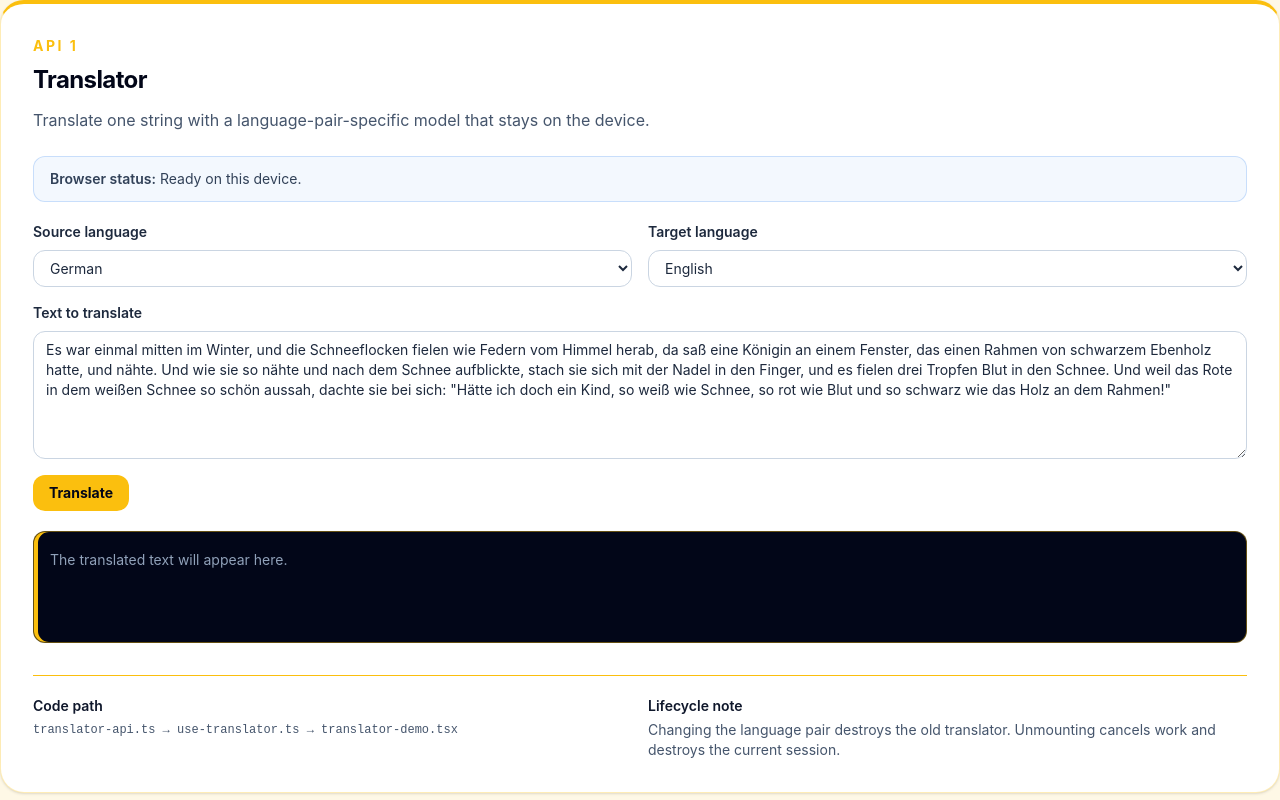
Test: Translator demo › is operable through its accessible form controls
Click the button "Translate": (81, 493) [33, 475, 129, 511]
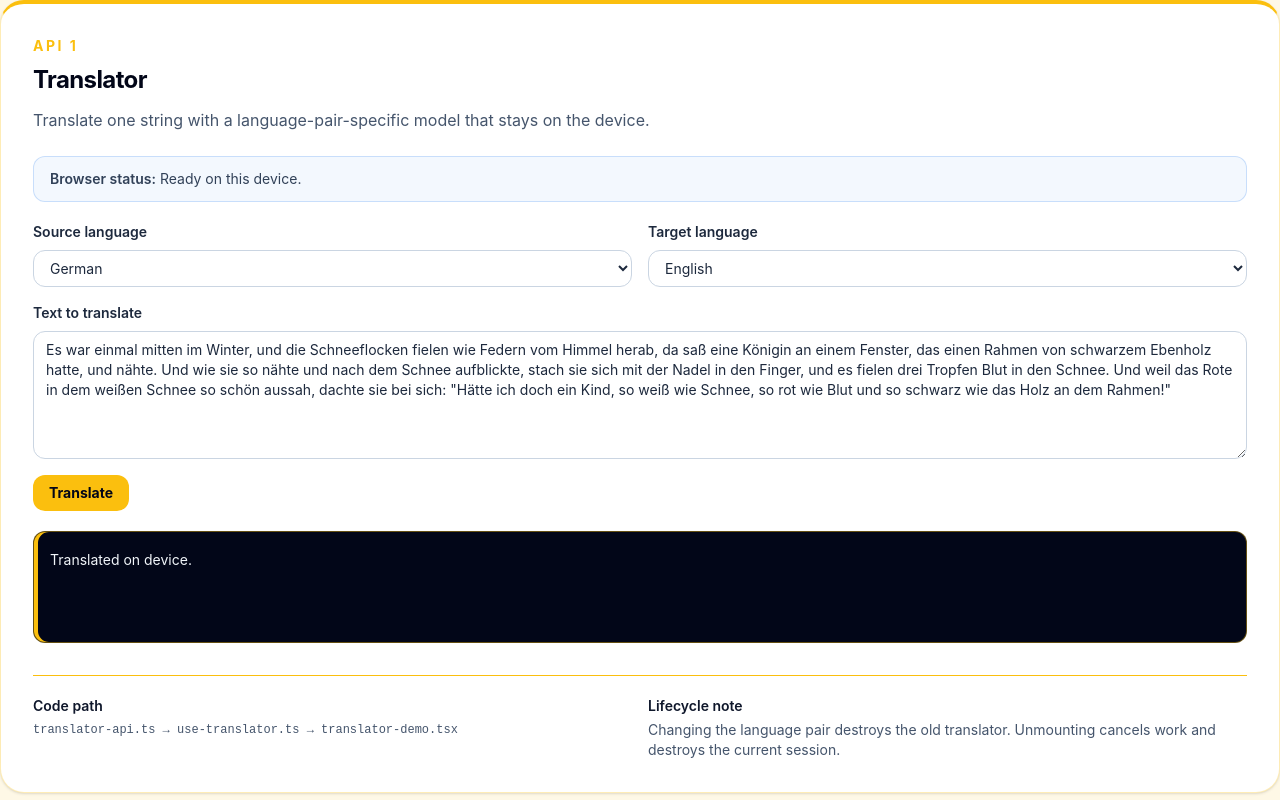
Expected: the text "Translated on device." is shown, [50, 551, 192, 568]
